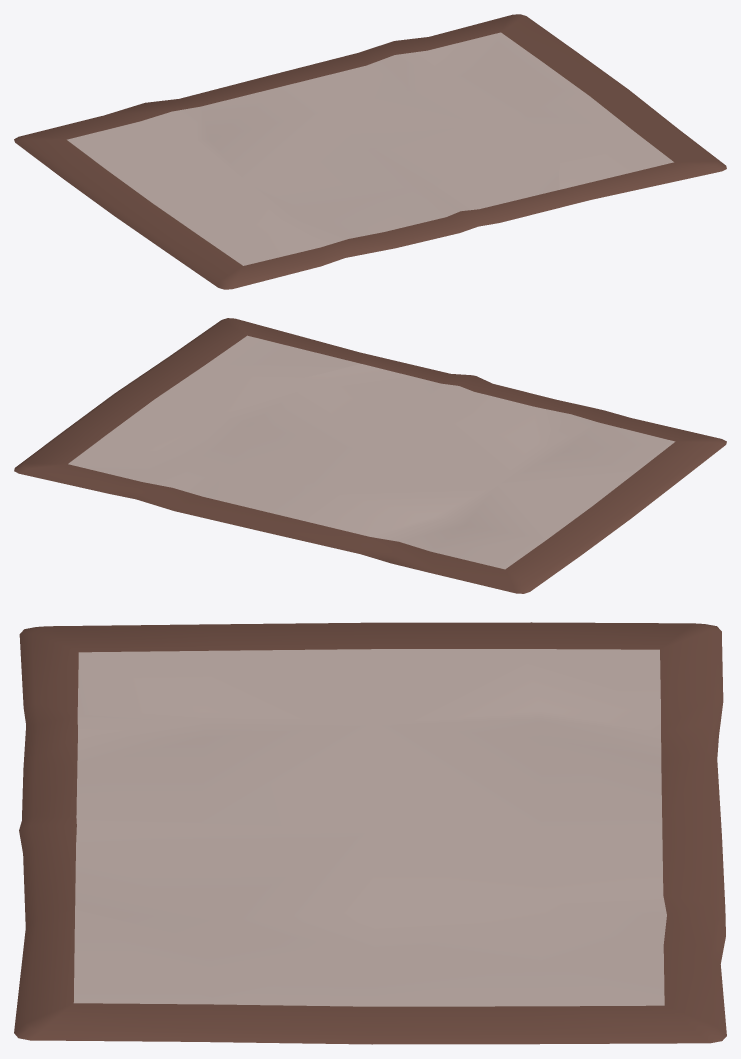
Rendered from carpet_009.fbx.
3 views of the same model, one above another, from view 1: azimuth 30°, elevation 25°; view 2: azimuth 150°, elevation 25°; view 3: azimuth 270°, elevation 25° (orthographic). The views are drawn at different scales.
Visible parts, largest first — view 1: carpet_009; view 2: carpet_009; view 3: carpet_009.
Boxes of the visible parts, x1,y1,x2,y2 form: carpet_009: [14, 14, 726, 289]; carpet_009: [14, 318, 726, 593]; carpet_009: [14, 622, 726, 1044].
Bounding box in the file's own units: 146 × 104 × 2.01.
